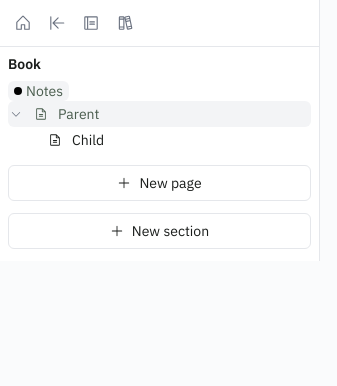
Test: Sidebar › sidebar_menu_opens_page_window
The width and height of the screenshot is (337, 386).
Right-click the button "Child".
right_click(88, 140)  # box x1=42 y1=127 x2=311 y2=153
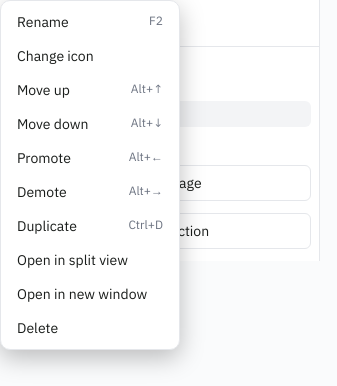
Click the menu item "Open in new window".
click(90, 294)  # box x1=5 y1=277 x2=175 y2=311
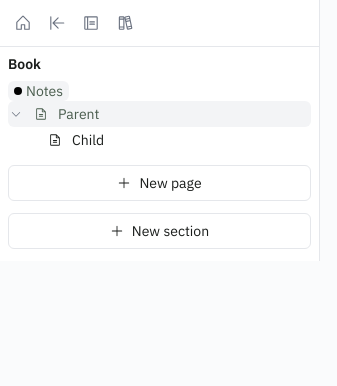
Expected: the menu is gone
